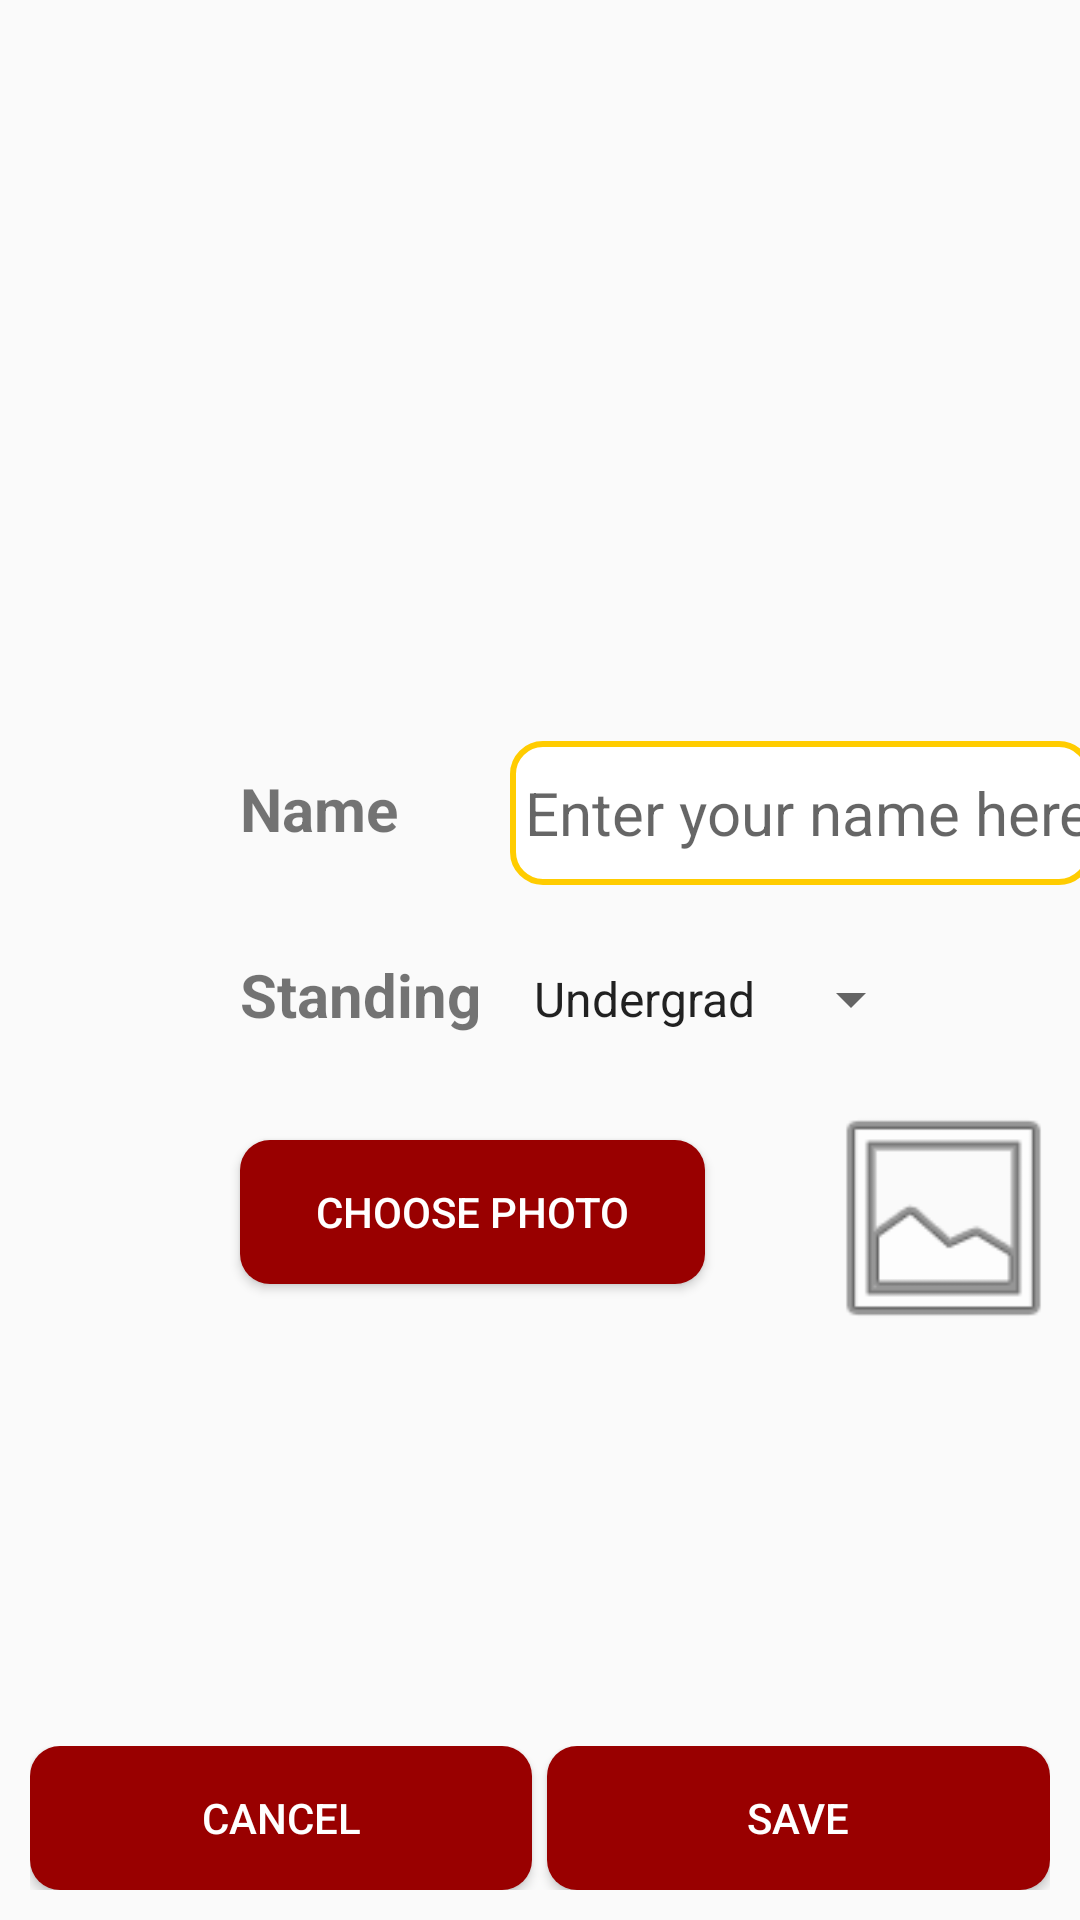

Screen size 1080x1920. Icon name, then its center in pixels as (x,y):
gallery: (943,1218)
